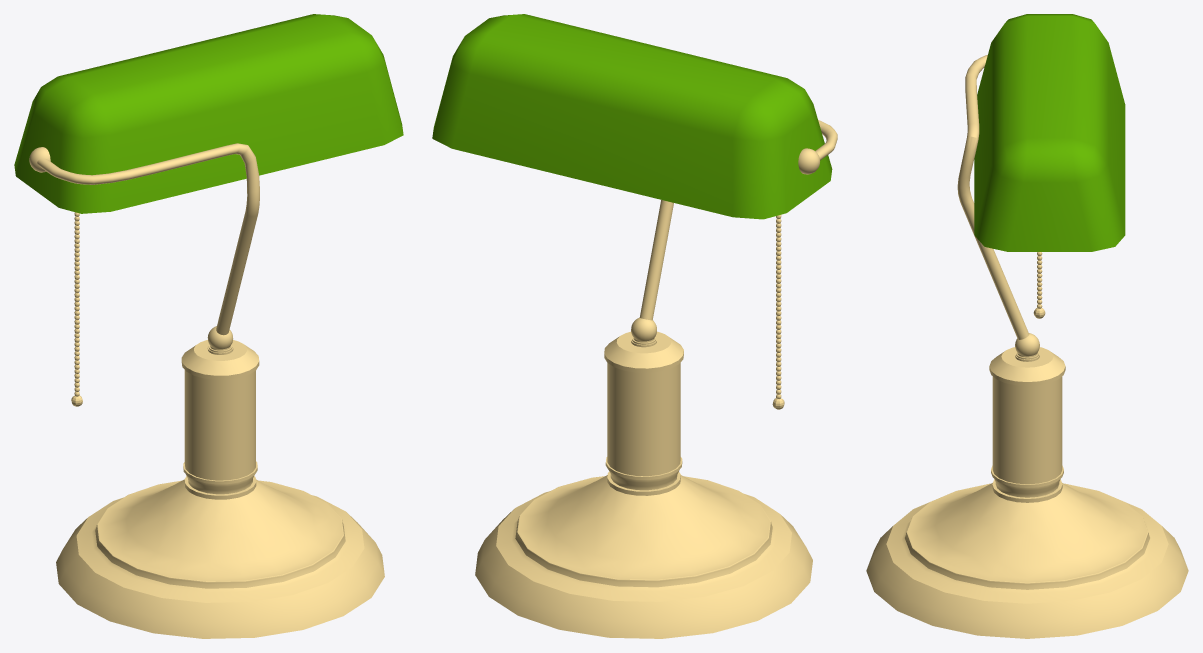
Rendered from SM_Vintage_Lamp.fbx.
3 views of the same model, side by side, from view 1: azimuth 30°, elevation 25°; view 2: azimuth 150°, elevation 25°; view 3: azimuth 270°, elevation 25° (orthographic). The views are drawn at different scales.
Parts seen in each view (by area): view 1: SM_Vintage_Lamp_LOD0; view 2: SM_Vintage_Lamp_LOD0; view 3: SM_Vintage_Lamp_LOD0.
Boxes of the visible parts, <box> form: SM_Vintage_Lamp_LOD0: <box>14,14,403,638</box>; SM_Vintage_Lamp_LOD0: <box>432,14,837,638</box>; SM_Vintage_Lamp_LOD0: <box>866,14,1188,638</box>.
Bounding box in the file's own units: 21.98 × 17.92 × 30.28.
